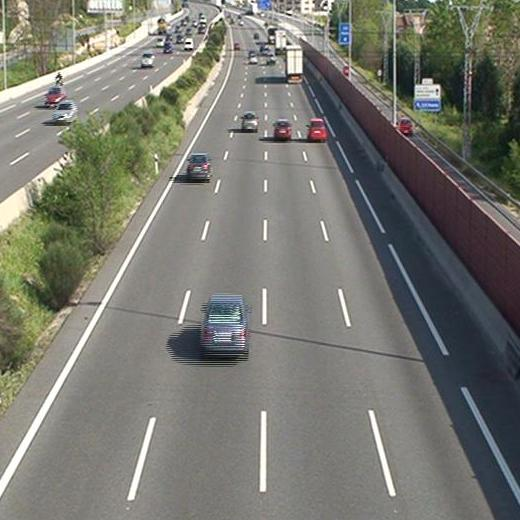car: (201, 297, 248, 352), (187, 154, 211, 179), (309, 119, 326, 140), (274, 121, 292, 139), (242, 113, 258, 129), (265, 53, 275, 63), (247, 55, 255, 63)
truck: (284, 46, 302, 83)
